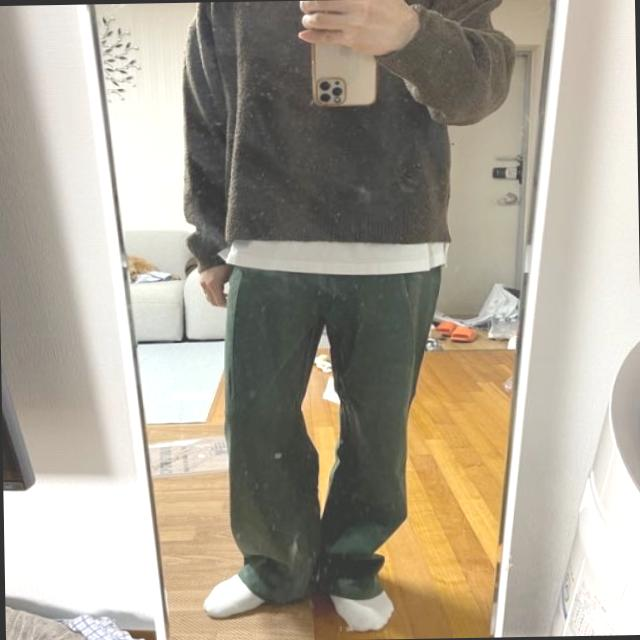denimpants: (222, 262, 446, 608)
sweater: (175, 0, 515, 266)
